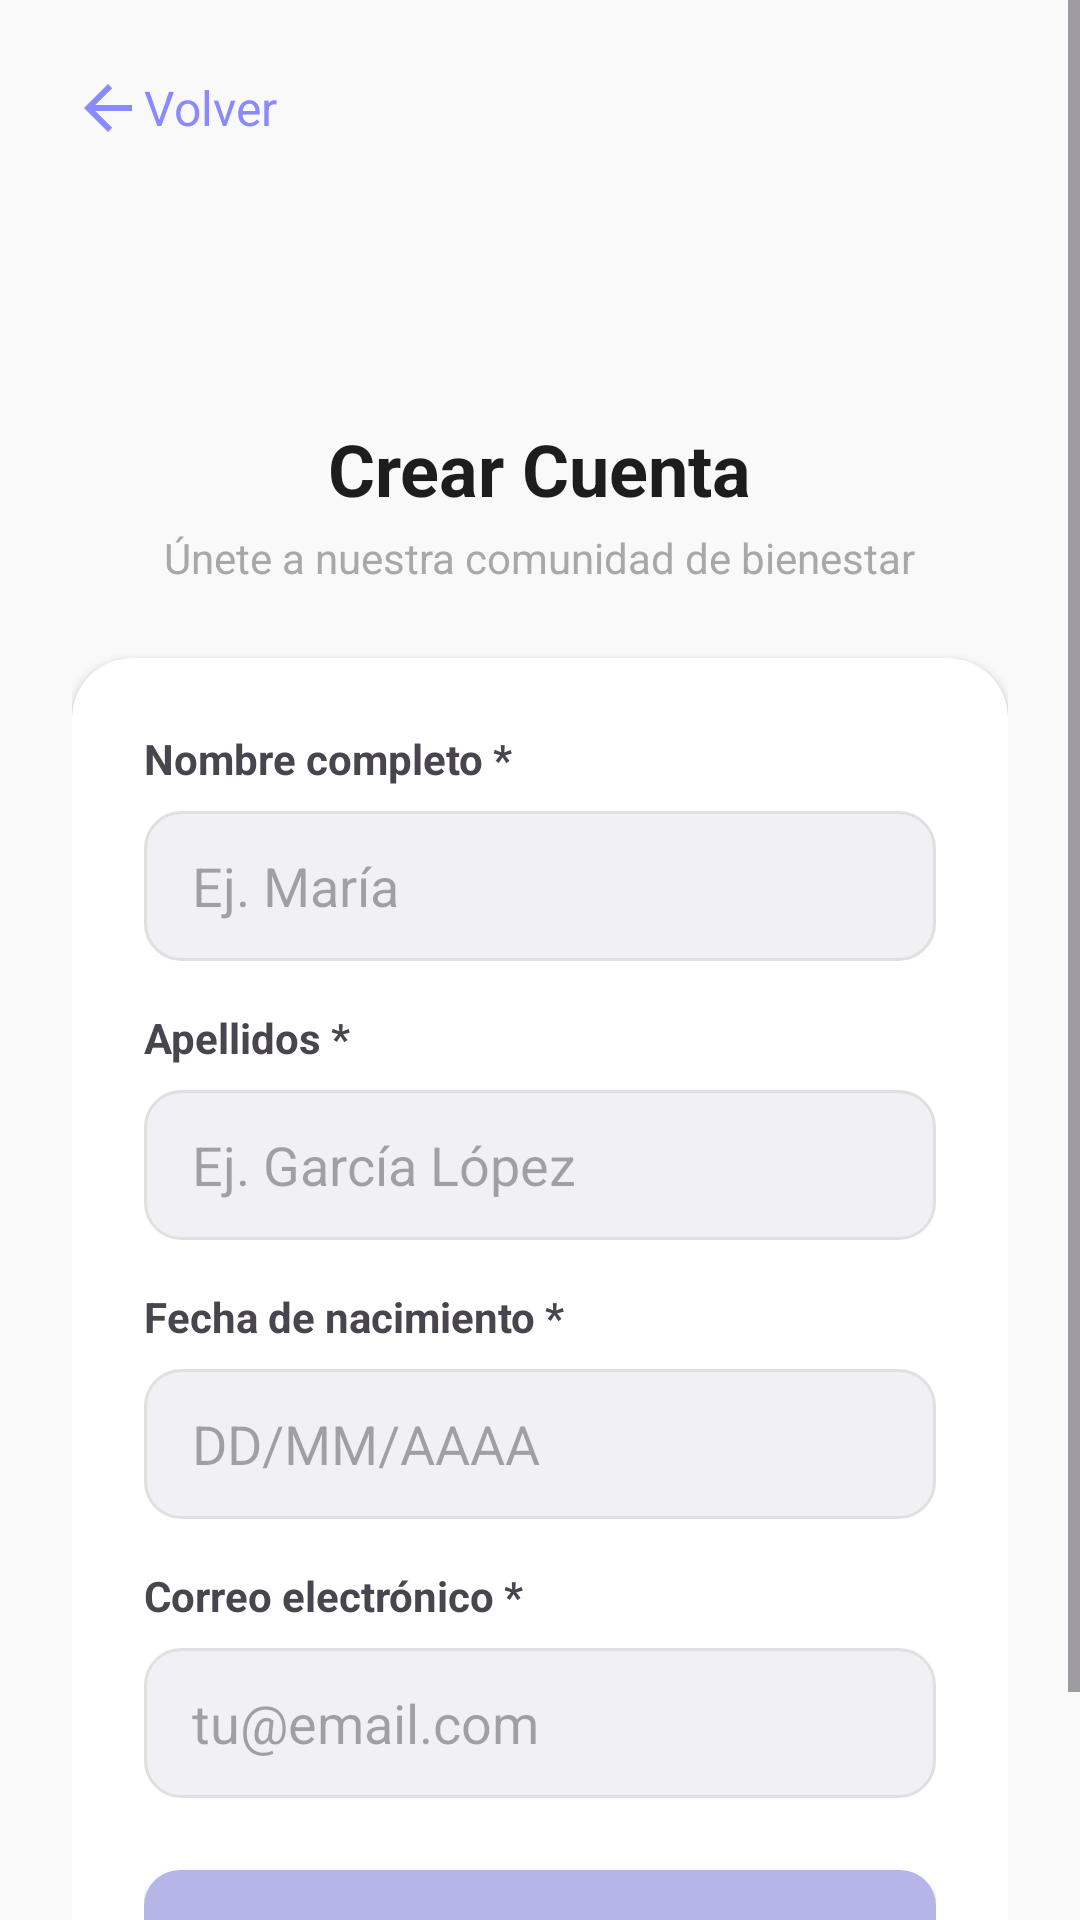

Icons on this 1080 × 1920 Android screen, each with the point to tap as (x,y):
ab back: (108,108)
